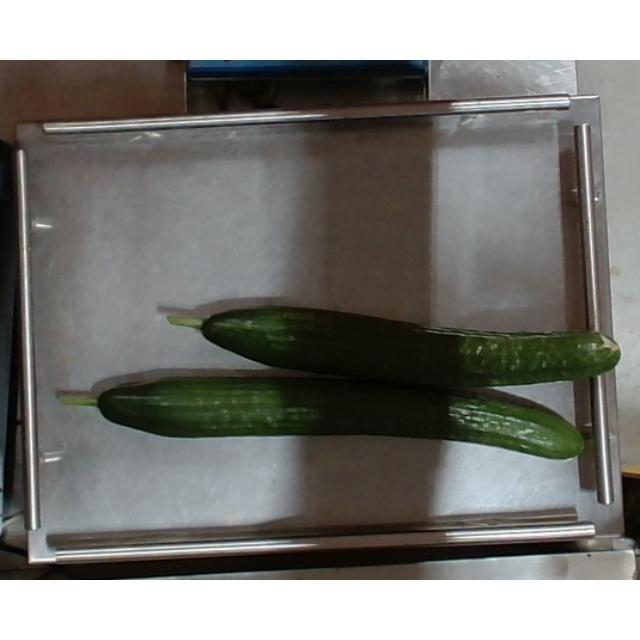cucumber: (57, 378, 586, 460), (166, 304, 624, 388)
